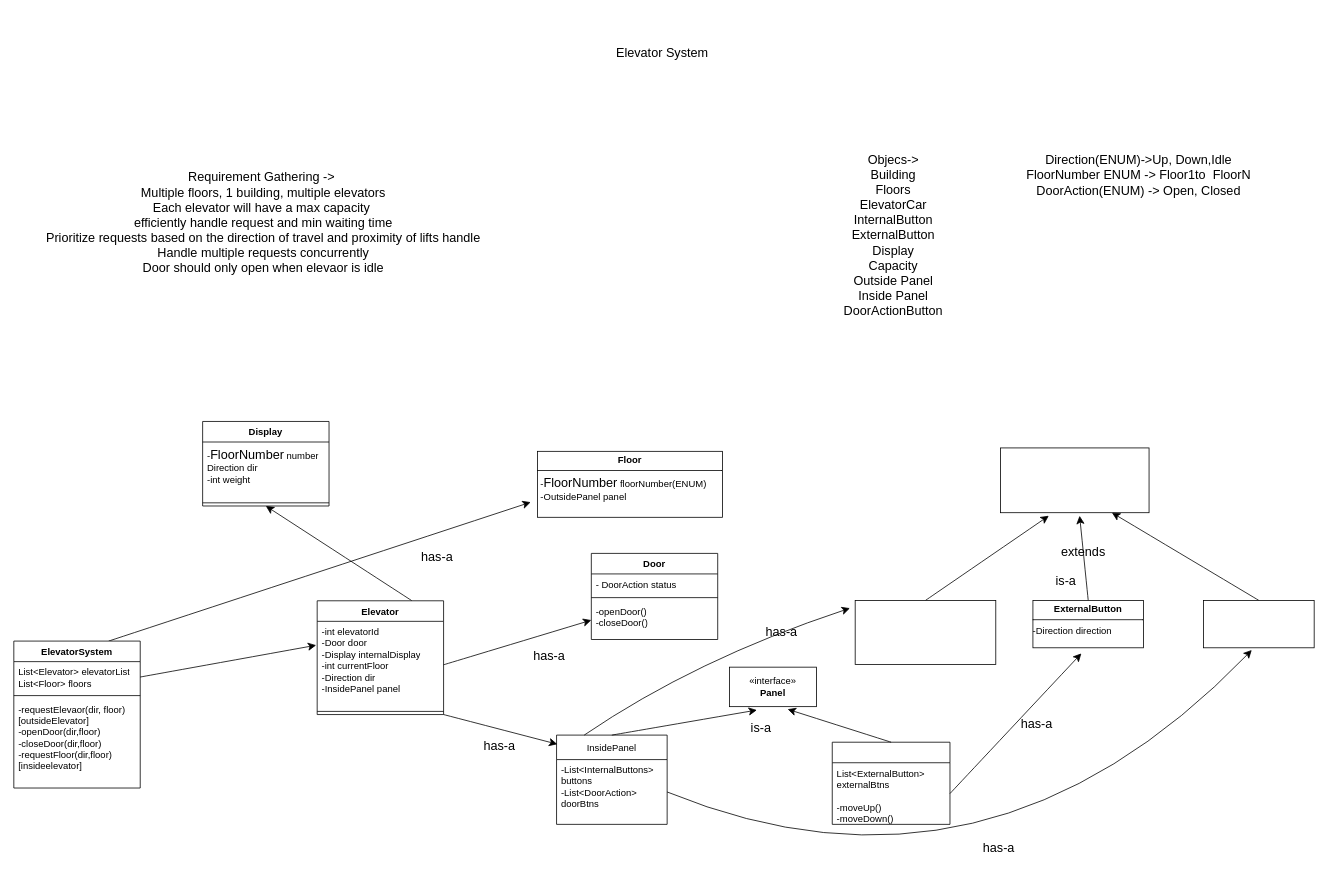
The diagram is 1328 pixels wide and 872 high, and some of its shapes have lost their labels. Each missing label, with the box of its shape:
DoorActionButton -DoorAction doorAction: (1203, 600, 1314, 648)
InternalButton - FloorNumber floorNumber: (854, 600, 996, 664)
OutsidePanel: (831, 741, 950, 824)
«interface» Button -boolean pressButton() -boolean isPressed(): (1000, 447, 1149, 513)
